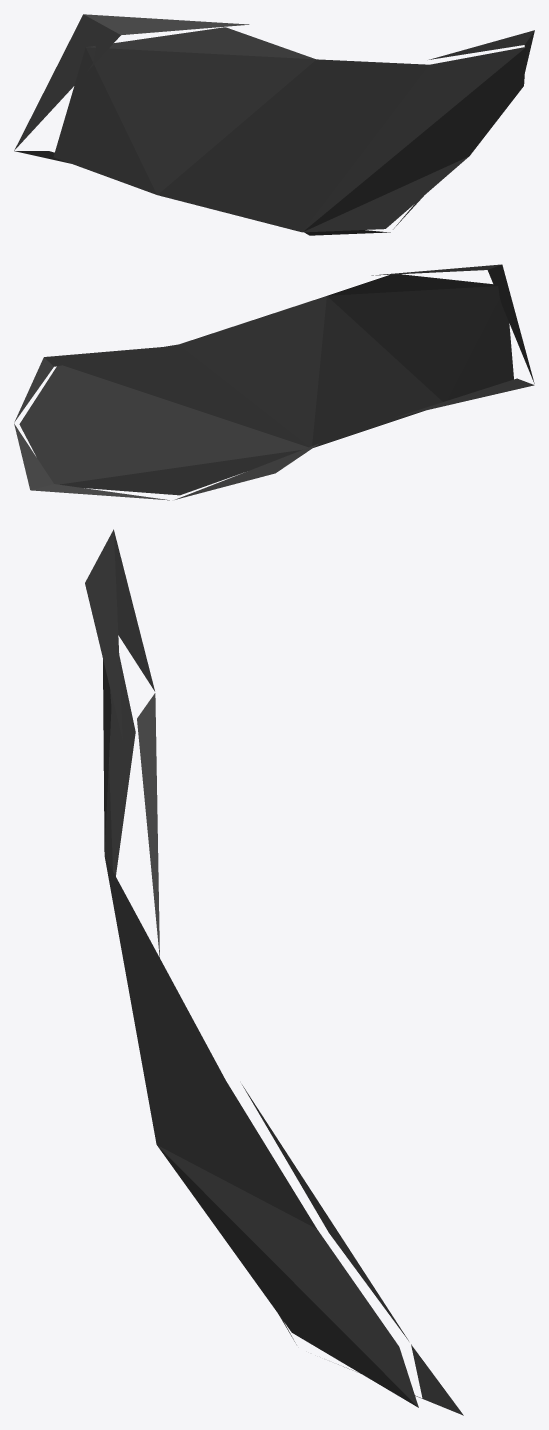
Rendered from A_mesenteric_caudal_A_mesenteric_caudal.glb.
The picture shows the model from 3 angles, top to bottom: view 1: azimuth 30°, elevation 25°; view 2: azimuth 150°, elevation 25°; view 3: azimuth 270°, elevation 25°; orthographic projection. The views are drawn at different scales.
Visible parts, largest first — view 1: A_mesenteric_caudal_A_mesenteric_caudal; view 2: A_mesenteric_caudal_A_mesenteric_caudal; view 3: A_mesenteric_caudal_A_mesenteric_caudal.
Part boxes in pixels (bbox=[...]): A_mesenteric_caudal_A_mesenteric_caudal: bbox=[14, 14, 534, 235]; A_mesenteric_caudal_A_mesenteric_caudal: bbox=[14, 264, 534, 500]; A_mesenteric_caudal_A_mesenteric_caudal: bbox=[85, 529, 463, 1415].
Size of the model in its own units: 0.0044 by 0.0025 by 0.00158.
1 material, 1 textured.
